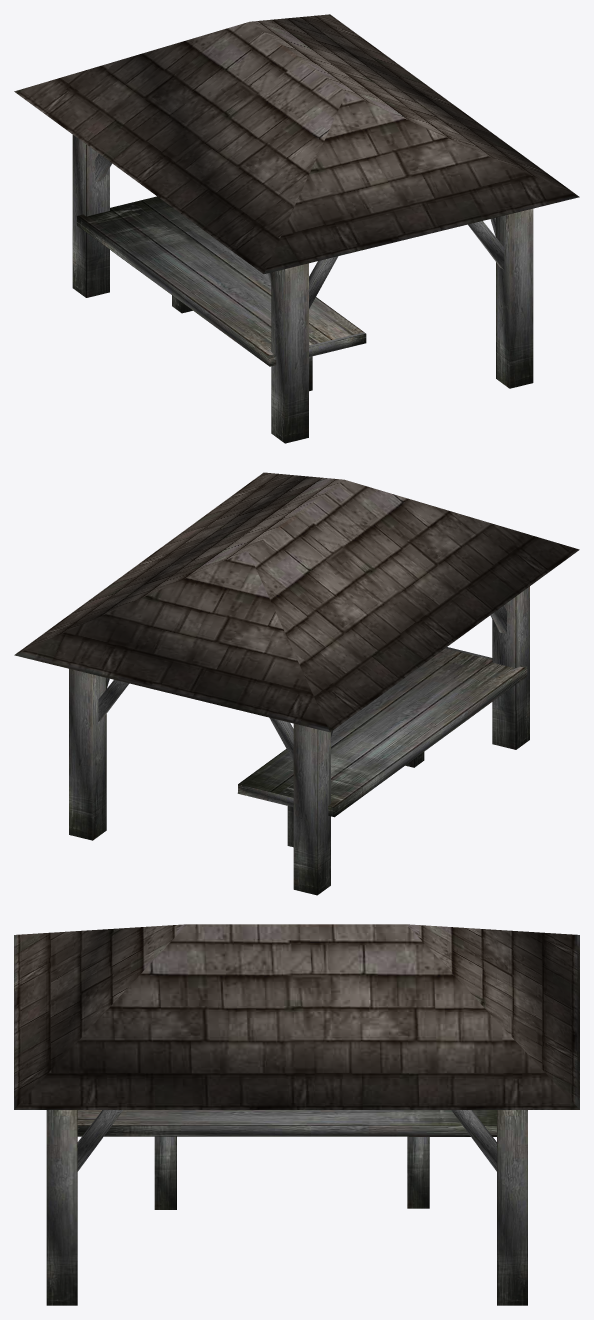
The model's file is house3-04.obj.
The picture shows the model from 3 angles, top to bottom: view 1: azimuth 30°, elevation 25°; view 2: azimuth 150°, elevation 25°; view 3: azimuth 270°, elevation 25°; orthographic projection. The views are drawn at different scales.
Bounding box in the file's own units: 4.46 × 3.72 × 6.1.
Materials: 1 (1 with a texture image).
